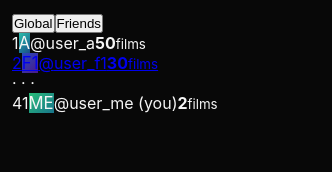
Scenario: Leaderboard › switches to friends only
The width and height of the screenshot is (332, 172).
Expected: the text "@user_a" is shown, [30, 33, 95, 53]
Click the button "Friends".
click(79, 24)  # box [54, 14, 103, 33]
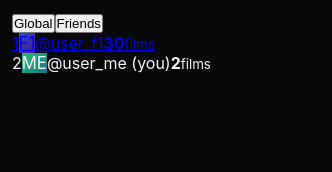
Result: the text "@user_a" is gone
